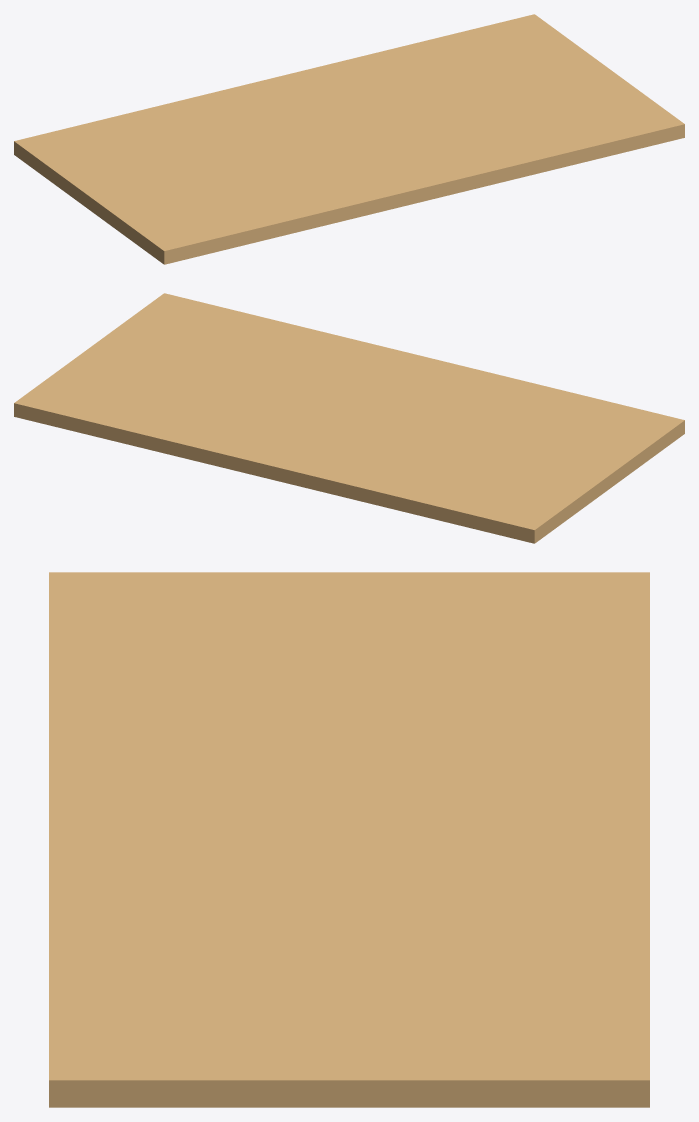
The model's file is weak_floor_fractured.fbx.
3 renders of one model, top to bottom at view 1: azimuth 30°, elevation 25°; view 2: azimuth 150°, elevation 25°; view 3: azimuth 270°, elevation 25°, orthographic. The views are drawn at different scales.
Parts seen in each view (by area): view 1: WeakFloor_cell_004, WeakFloor_cell_001, WeakFloor_cell_005, WeakFloor_cell_000, WeakFloor_cell_009, WeakFloor_cell_002, WeakFloor_cell_003, WeakFloor_cell_006, WeakFloor_cell_008, WeakFloor_cell_010, WeakFloor_cell_012, WeakFloor_cell_007 (+12 smaller); view 2: WeakFloor_cell_001, WeakFloor_cell_000, WeakFloor_cell_003, WeakFloor_cell_007, WeakFloor_cell_004, WeakFloor_cell_010, WeakFloor_cell_002, WeakFloor_cell_005, WeakFloor_cell_006, WeakFloor_cell_009, WeakFloor_cell_008, WeakFloor_cell_023 (+12 smaller); view 3: WeakFloor_cell_000, WeakFloor_cell_005, WeakFloor_cell_001, WeakFloor_cell_002, WeakFloor_cell_004, WeakFloor_cell_003, WeakFloor_cell_006, WeakFloor_cell_009, WeakFloor_cell_008, WeakFloor_cell_010, WeakFloor_cell_007, WeakFloor_cell_011 (+12 smaller).
Part boxes in pixels (x1=…): WeakFloor_cell_004: x1=126, y1=196, x2=278, y2=264; WeakFloor_cell_001: x1=14, y1=124, x2=162, y2=199; WeakFloor_cell_005: x1=561, y1=83, x2=684, y2=156; WeakFloor_cell_000: x1=460, y1=14, x2=593, y2=87; WeakFloor_cell_009: x1=221, y1=167, x2=350, y2=236; WeakFloor_cell_002: x1=217, y1=112, x2=354, y2=173; WeakFloor_cell_003: x1=361, y1=32, x2=497, y2=87; WeakFloor_cell_006: x1=322, y1=102, x2=448, y2=160; WeakFloor_cell_008: x1=403, y1=64, x2=527, y2=123; WeakFloor_cell_010: x1=85, y1=107, x2=214, y2=165; WeakFloor_cell_012: x1=301, y1=148, x2=404, y2=219; WeakFloor_cell_007: x1=200, y1=77, x2=315, y2=134; WeakFloor_cell_001: x1=460, y1=464, x2=595, y2=543; WeakFloor_cell_000: x1=14, y1=359, x2=168, y2=433; WeakFloor_cell_003: x1=84, y1=391, x2=230, y2=458; WeakFloor_cell_007: x1=269, y1=434, x2=400, y2=498; WeakFloor_cell_004: x1=544, y1=393, x2=684, y2=459; WeakFloor_cell_010: x1=396, y1=453, x2=509, y2=525; WeakFloor_cell_002: x1=325, y1=402, x2=467, y2=452; WeakFloor_cell_005: x1=109, y1=293, x2=245, y2=349; WeakFloor_cell_006: x1=251, y1=380, x2=396, y2=429; WeakFloor_cell_009: x1=445, y1=374, x2=574, y2=427; WeakFloor_cell_008: x1=134, y1=368, x2=280, y2=414; WeakFloor_cell_023: x1=187, y1=419, x2=294, y2=478; WeakFloor_cell_000: x1=354, y1=1001, x2=649, y2=1107; WeakFloor_cell_005: x1=49, y1=1000, x2=279, y2=1107; WeakFloor_cell_001: x1=403, y1=572, x2=649, y2=657; WeakFloor_cell_002: x1=247, y1=714, x2=466, y2=822; WeakFloor_cell_004: x1=49, y1=572, x2=214, y2=679; WeakFloor_cell_003: x1=479, y1=910, x2=649, y2=1007; WeakFloor_cell_006: x1=216, y1=811, x2=439, y2=909; WeakFloor_cell_009: x1=49, y1=669, x2=255, y2=756; WeakFloor_cell_008: x1=287, y1=908, x2=482, y2=1003; WeakFloor_cell_010: x1=396, y1=641, x2=649, y2=712; WeakFloor_cell_007: x1=438, y1=753, x2=649, y2=829; WeakFloor_cell_011: x1=145, y1=907, x2=357, y2=1006.
Size of the model in its own units: 12 by 0.3 by 6.
